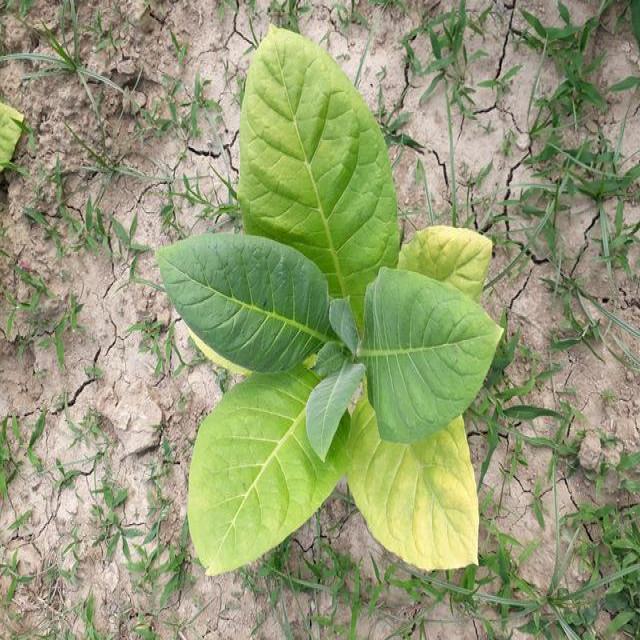crop: (158, 35, 505, 582)
